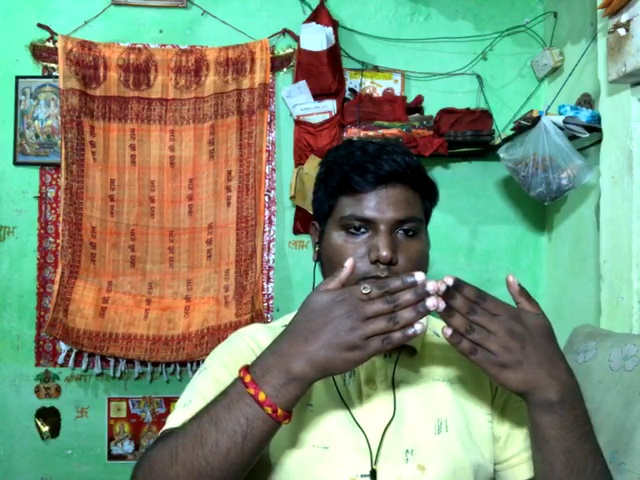Thanks: (250, 251, 607, 417)
